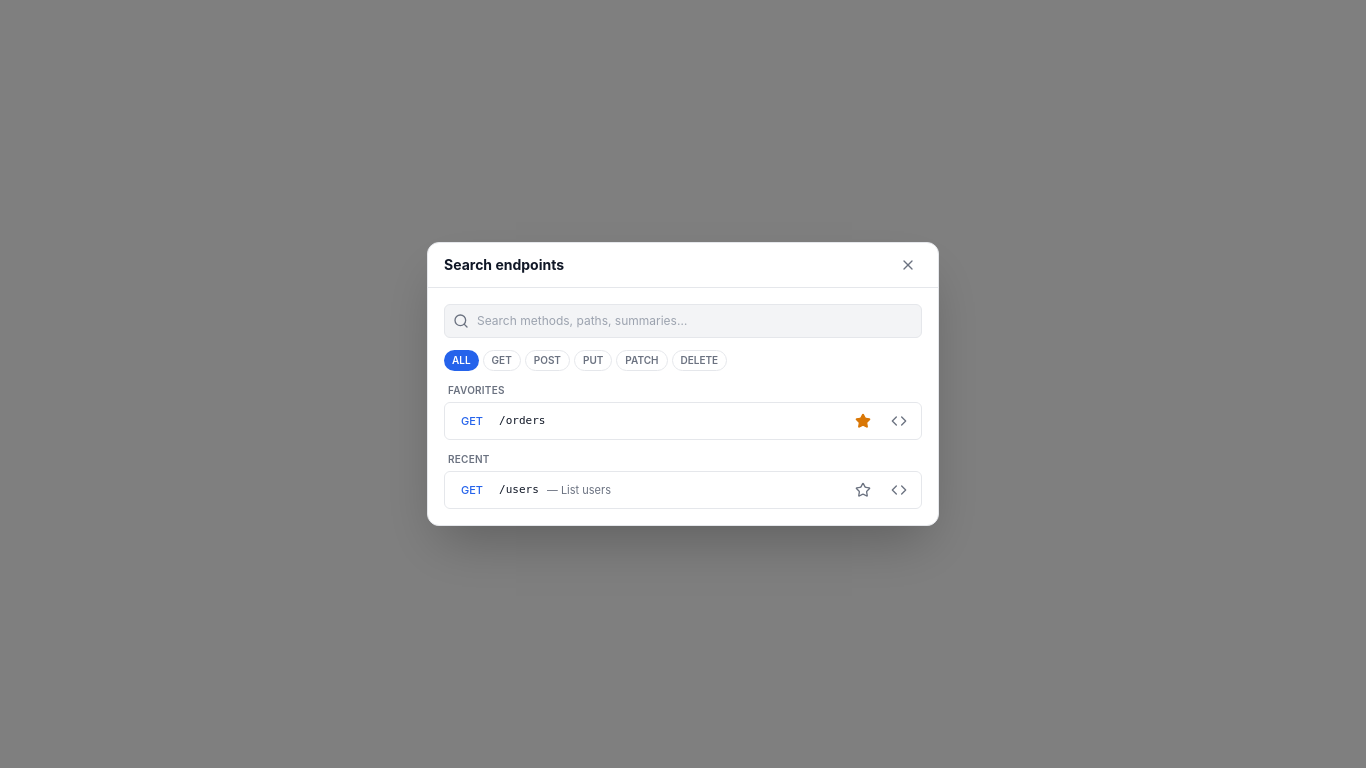
CommandPalette › shows an empty state when nothing matches
Type "zzz" into the field. click: (695, 321)
box: x1=477 y1=305 x2=913 y2=337
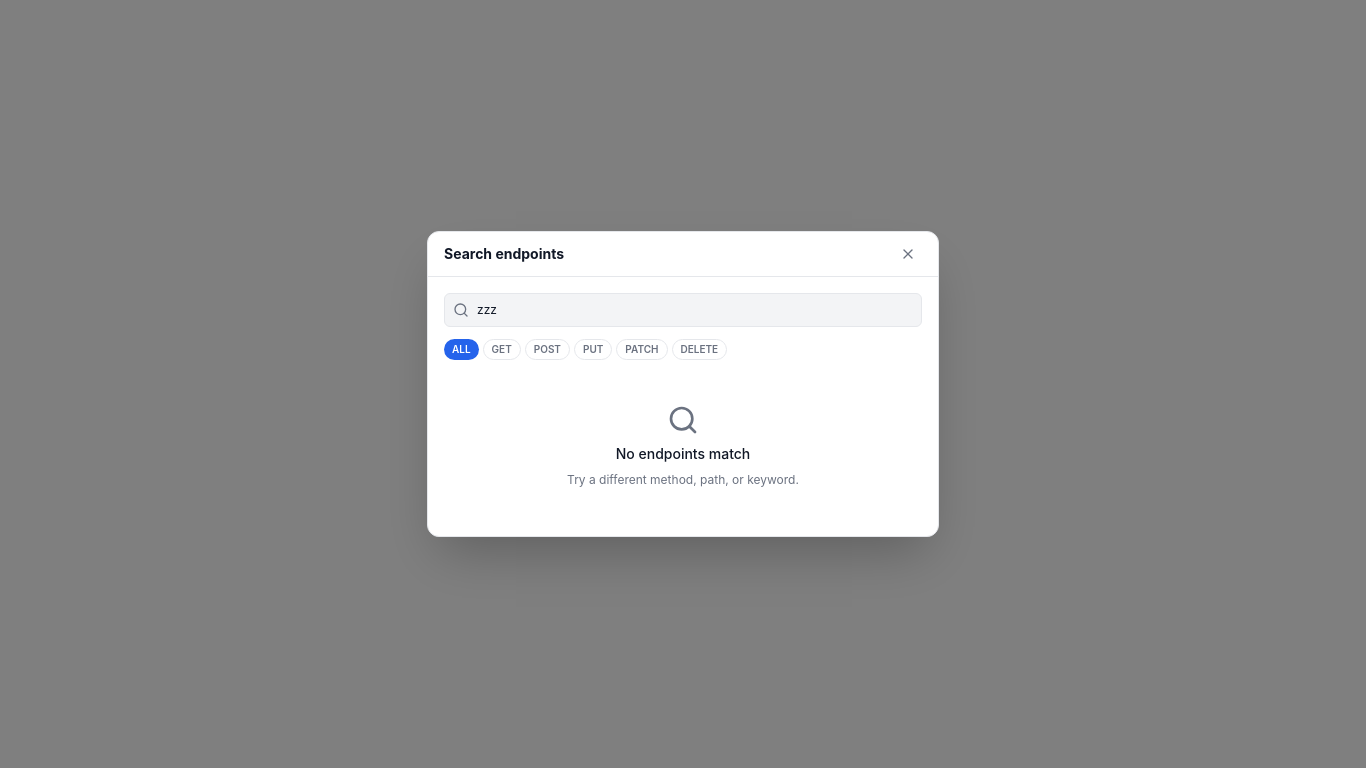
Expected: the text "No endpoints match" is shown, x1=616 y1=444 x2=750 y2=464
